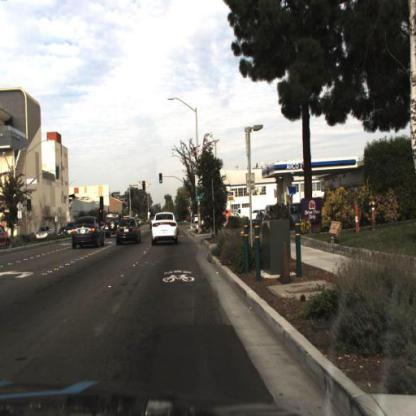car: (69, 213, 104, 251), (151, 210, 180, 249), (118, 217, 143, 252), (32, 224, 57, 249), (103, 214, 122, 238), (247, 202, 265, 225), (232, 202, 249, 226), (35, 226, 51, 243)
trafficLight-Green: (158, 170, 166, 186)
trafficLight-Red: (140, 178, 148, 196), (129, 186, 135, 200)
